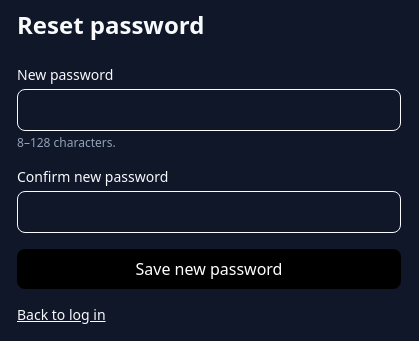
Test case: ResetPasswordPage › happy path: success navigates to /login
In the password field labelled "New password": (209, 110) [17,89,401,131], type "brandnew12345"
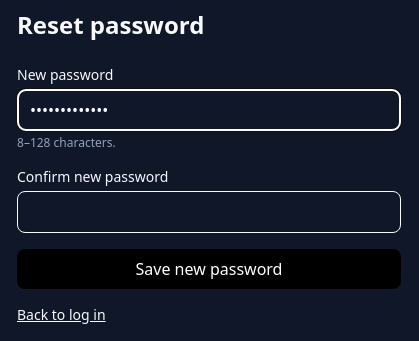
In the password field labelled "Confirm new password": (209, 212) [17,191,401,233], type "brandnew12345"
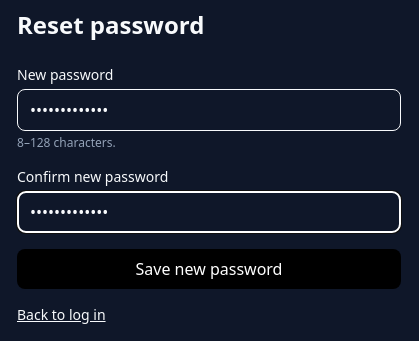
Click the button "Save new password": (209, 269) [17,249,401,289]
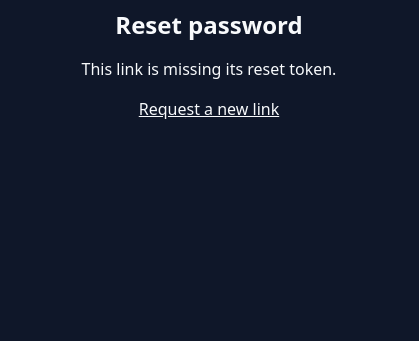
Check: the button "Save new password" is gone
